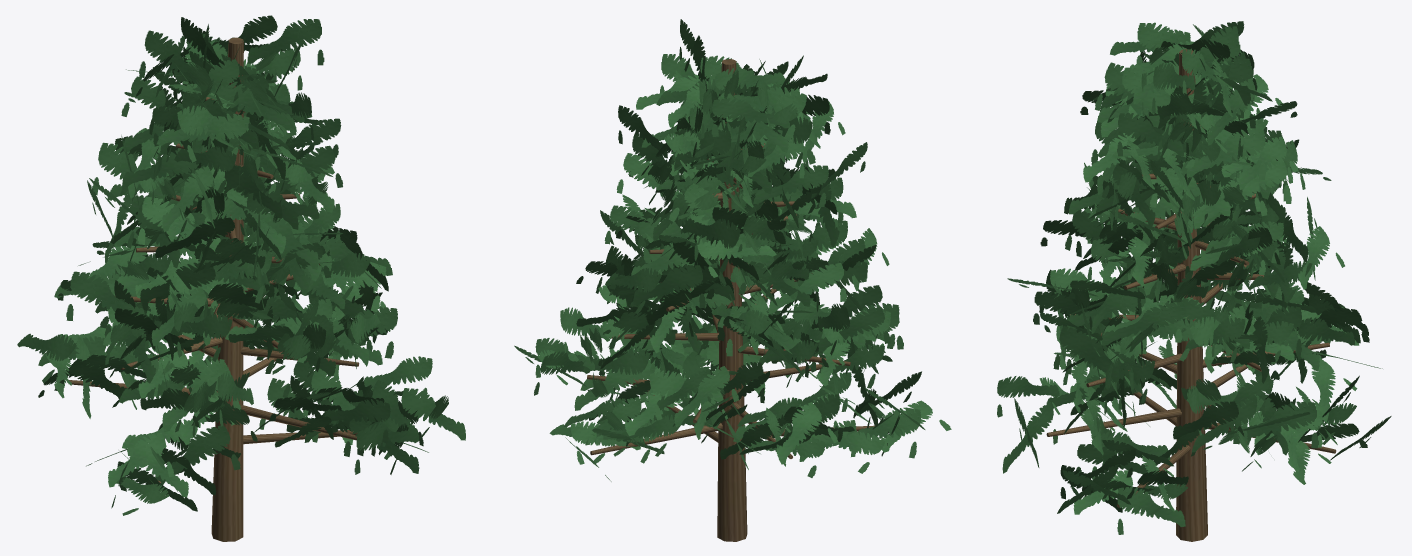
The picture shows the model from 3 angles, left to right: view 1: azimuth 30°, elevation 25°; view 2: azimuth 150°, elevation 25°; view 3: azimuth 270°, elevation 25°; orthographic projection. The views are drawn at different scales.
Visible parts, largest first — view 1: pine-needle, pine-bark; view 2: pine-needle, pine-bark; view 3: pine-needle, pine-bark.
Boxes of the visible parts, left/top/right/bottom form: pine-needle: left=17, top=15, right=465, bottom=515; pine-bark: left=69, top=37, right=359, bottom=541; pine-needle: left=514, top=19, right=951, bottom=481; pine-bark: left=587, top=59, right=875, bottom=541; pine-needle: left=997, top=21, right=1391, bottom=534; pine-bark: left=1046, top=49, right=1336, bottom=541.
Size of the model in its own units: 7.8 by 10.43 by 7.64.
2 materials, 2 textured.
